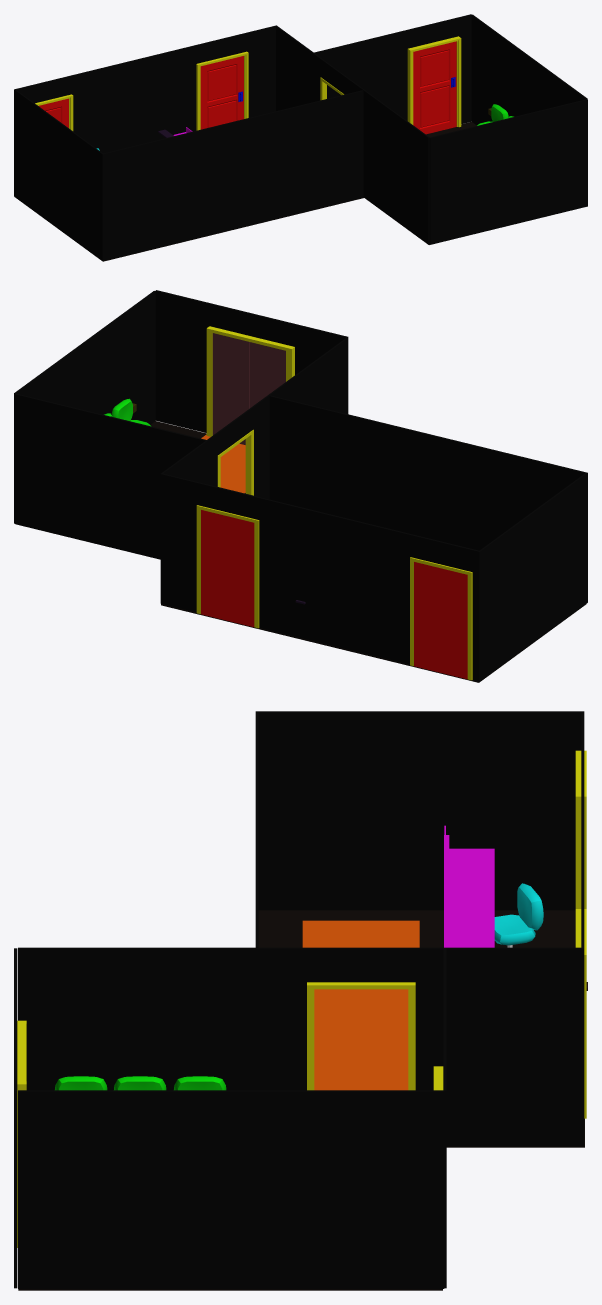
File: THERSAPYYY.fbx
3 views of the same model, one above another, from view 1: azimuth 30°, elevation 25°; view 2: azimuth 150°, elevation 25°; view 3: azimuth 270°, elevation 25° (orthographic). The views are drawn at different scales.
Visible parts, largest first — view 1: pCube91, pCube87; view 2: pCube91; view 3: pCube91.
Part boxes in pixels (bbox=[...]): pCube91: bbox=[14, 14, 587, 261]; pCube87: bbox=[407, 36, 461, 134]; pCube91: bbox=[14, 290, 587, 682]; pCube91: bbox=[14, 711, 587, 1290].
Size of the model in its own units: 2329 by 570 by 1486.
